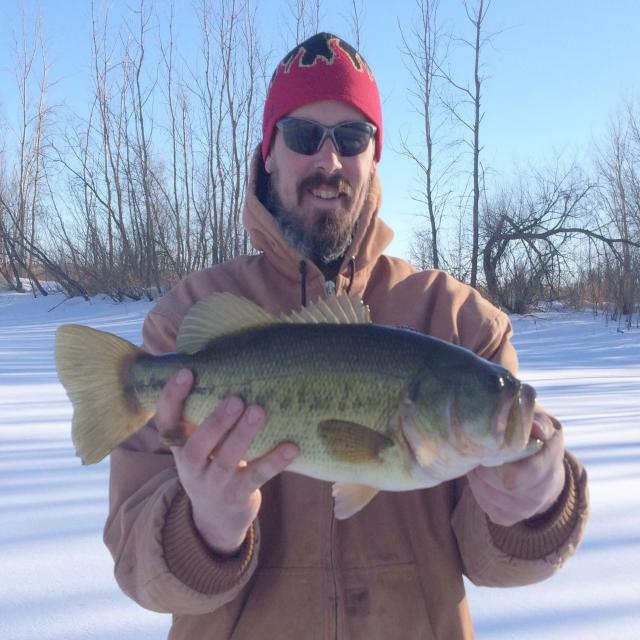Bass - Largemouth: (55, 291, 542, 491)
